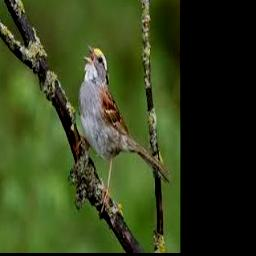Sparrow: (78, 43, 169, 217)
